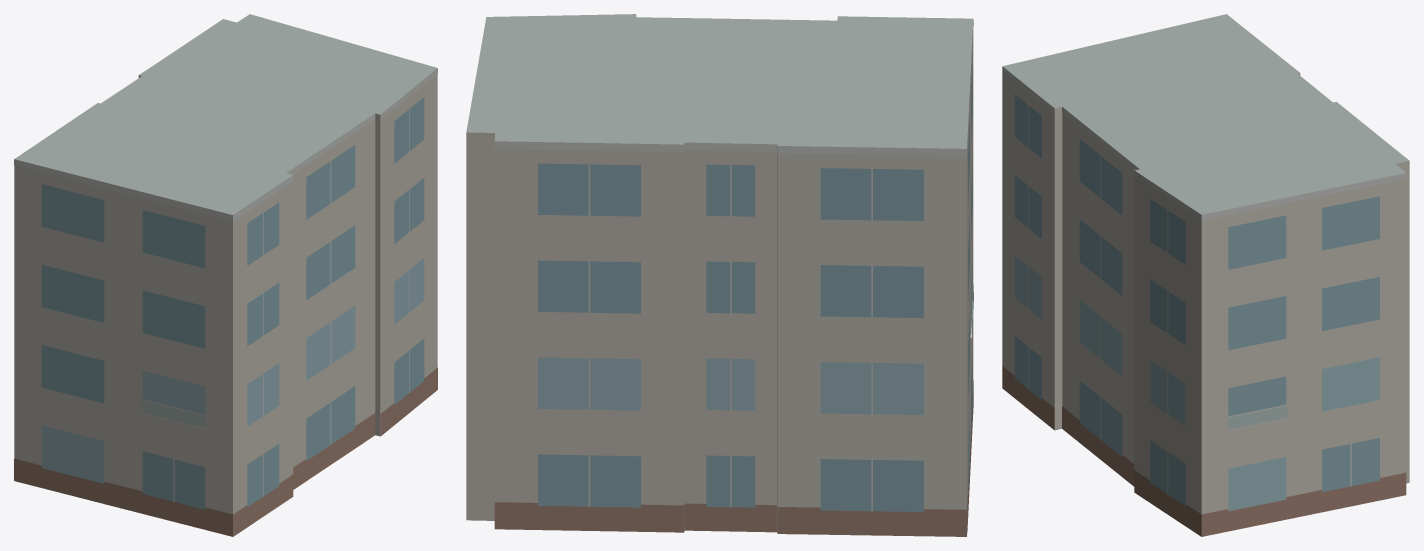
The model's file is survey-upis-32677131.glb.
The picture shows the model from 3 angles, left to right: view 1: azimuth 30°, elevation 25°; view 2: azimuth 150°, elevation 25°; view 3: azimuth 270°, elevation 25°; orthographic projection. The views are drawn at different scales.
Visible parts, largest first — view 1: survey-upis-32677131.tmp; view 2: survey-upis-32677131.tmp; view 3: survey-upis-32677131.tmp.
Boxes of the visible parts, x1,y1,x2,y2 form: survey-upis-32677131.tmp: [14, 14, 437, 536]; survey-upis-32677131.tmp: [466, 14, 973, 536]; survey-upis-32677131.tmp: [1002, 14, 1409, 536].
Bounding box in the file's own units: 17.26 × 12.9 × 14.79.
